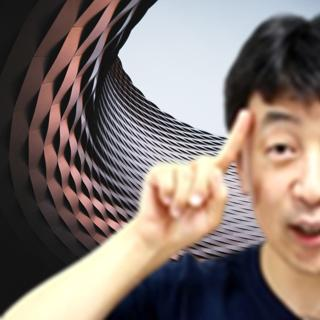IRRITATED: (132, 108, 255, 254)
